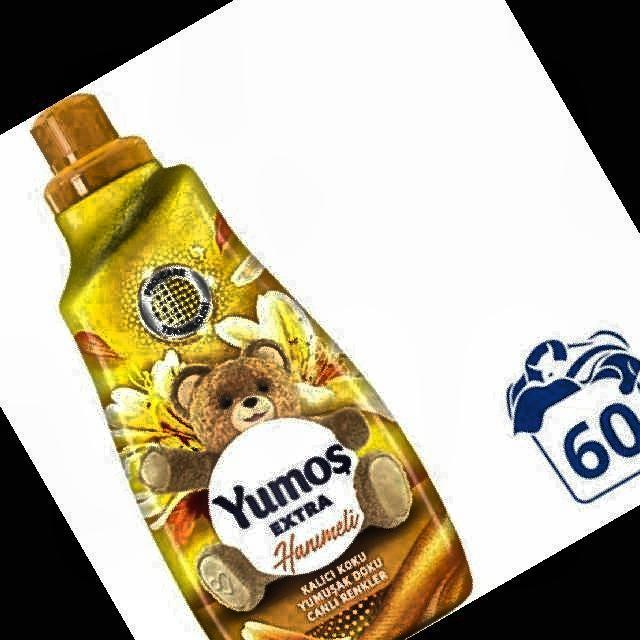plastic: (32, 94, 471, 639)
